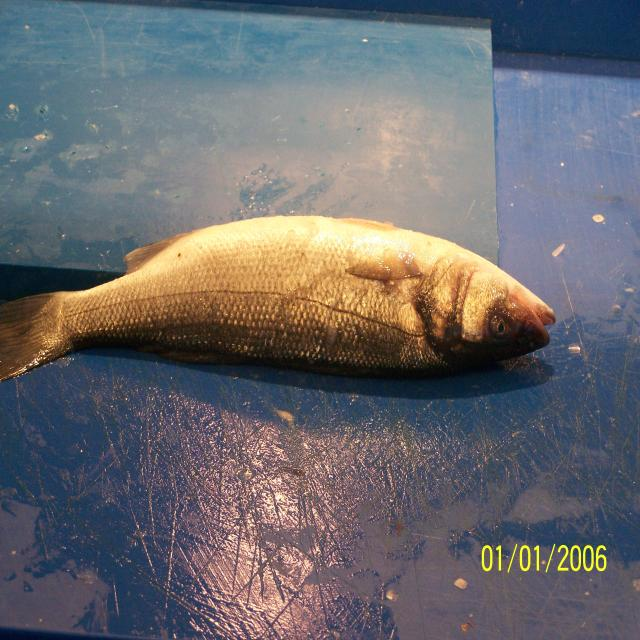Sea-Bass-levrek-: (0, 216, 555, 385)
